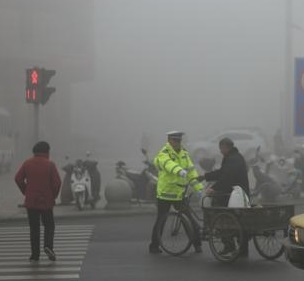person: (148, 129, 206, 252), (200, 137, 257, 258), (15, 141, 65, 262)
